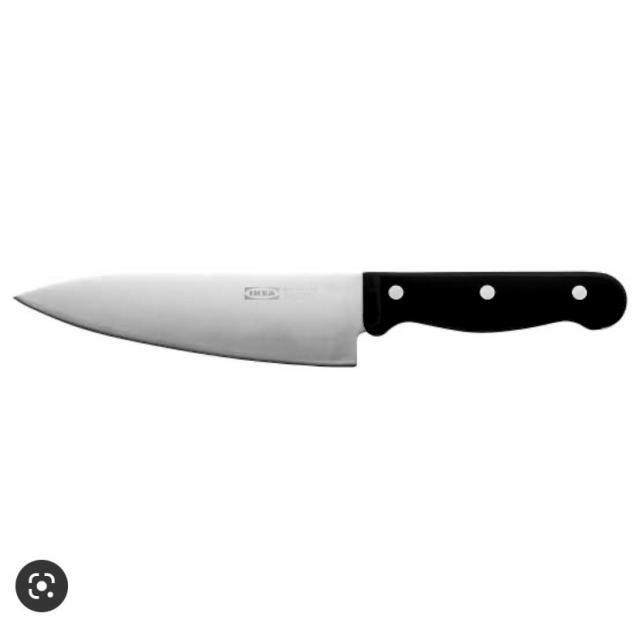knife: (9, 232, 637, 382)
